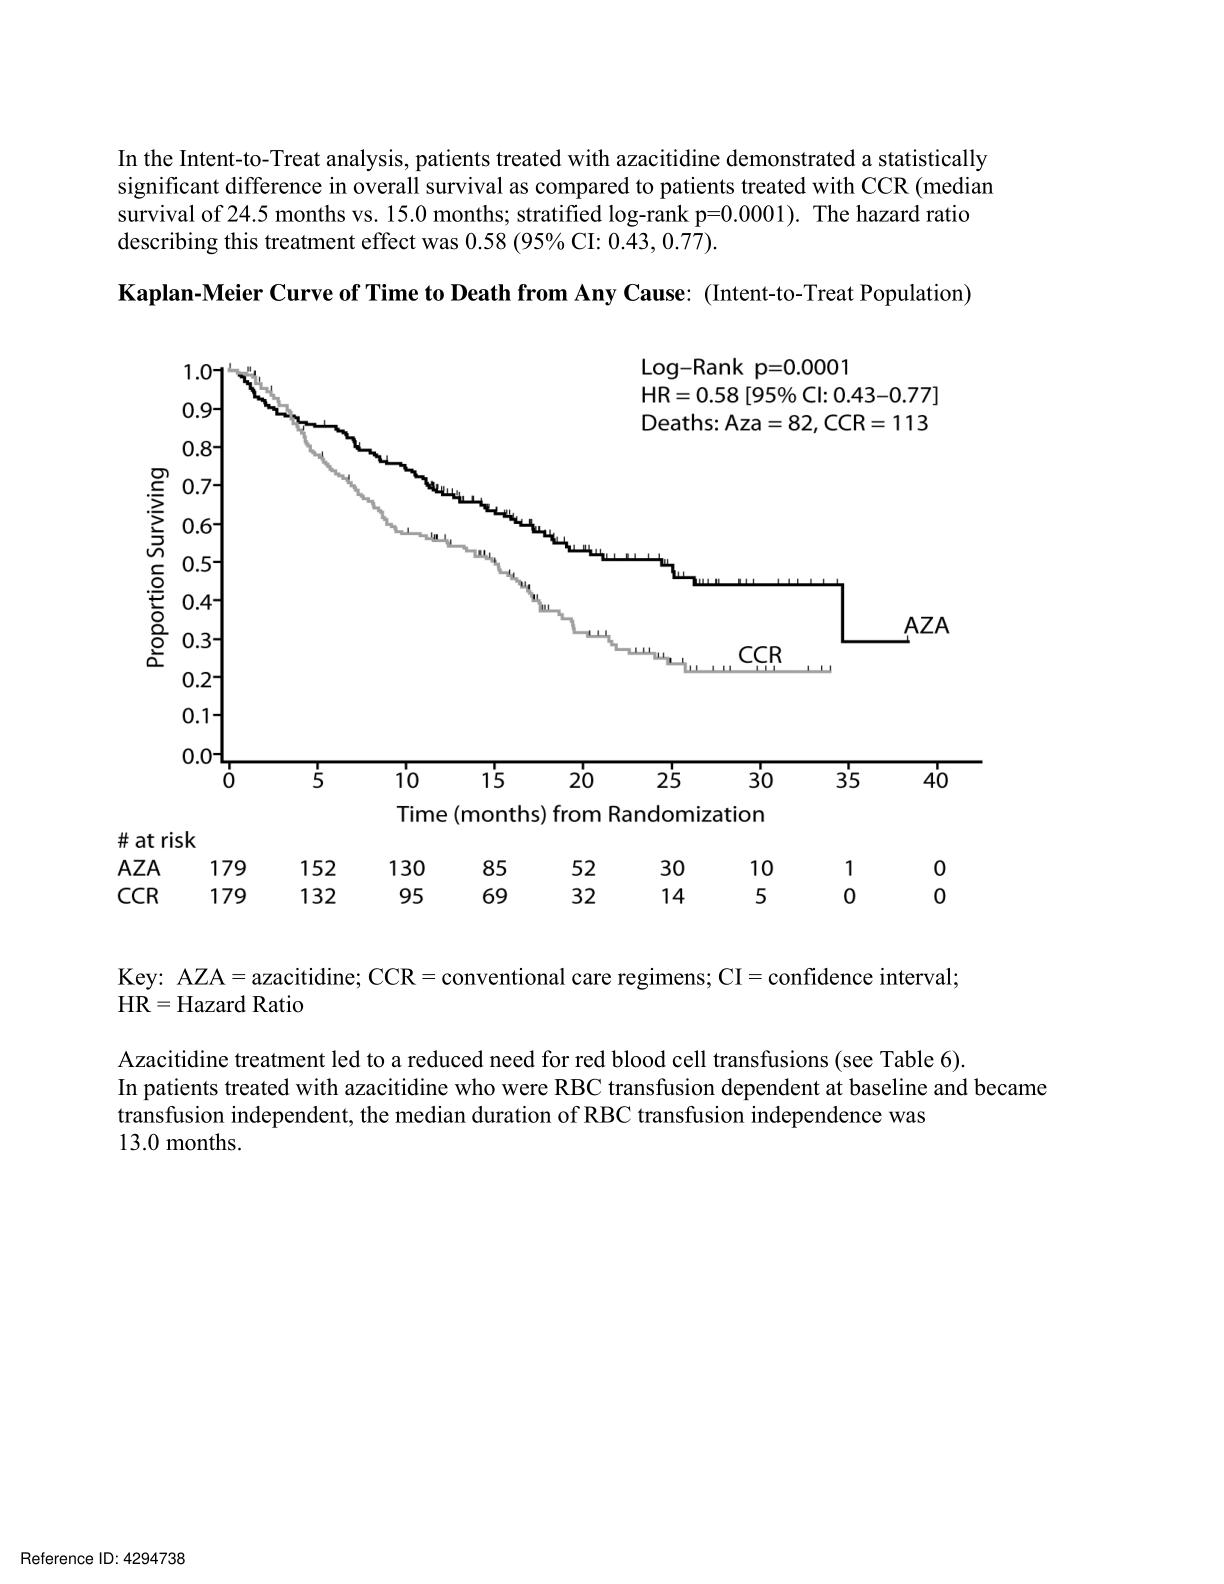nolines: (116, 855, 948, 906)
